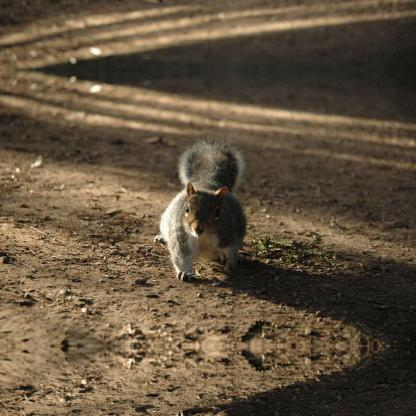Squirrel: (152, 138, 248, 280)
